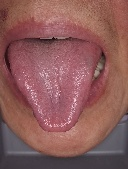tongue: (6, 43, 103, 133)
